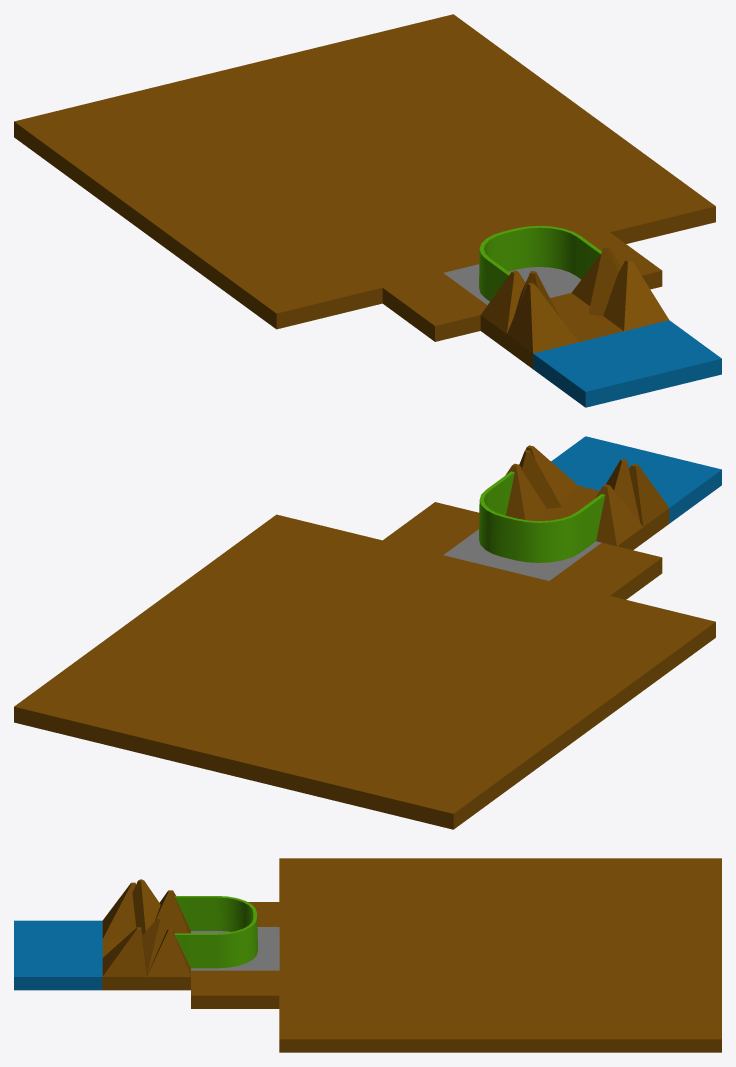
The model's file is Immersive Enviroment Proto1.fbx.
3 views of the same model, one above another, from view 1: azimuth 30°, elevation 25°; view 2: azimuth 150°, elevation 25°; view 3: azimuth 270°, elevation 25° (orthographic). The views are drawn at different scales.
Parts seen in each view (by area): view 1: Cube.176, Cube.328, Cube.342, Cube.346, Cube.348, Cube.352, Cube.334, Cube.336, Cube.330, Cube.340, Cube.354, Cube.163 (+30 smaller); view 2: Cube.354, Cube.353, Cube.163, Cube.176, Cube.328, Cube.330, Cube.336, Cube.352, Cube.342, Cube.348, Cube.334, Cube.340 (+32 smaller); view 3: Cube.176, Cube.163, Cube.327, Cube.329, Cube.333, Cube.335, Cube.339, Cube.341, Cube.345, Cube.347, Cube.351, Cube.353 (+32 smaller).
Part boxes in pixels (x1,y1,x2,y2): Cube.176: (533, 320, 721, 407); Cube.328: (250, 246, 472, 329); Cube.342: (119, 150, 341, 232); Cube.346: (92, 131, 315, 213); Cube.348: (66, 112, 289, 194); Cube.352: (40, 92, 262, 175); Cube.334: (197, 208, 420, 290); Cube.336: (171, 188, 394, 271); Cube.330: (224, 227, 446, 309); Cube.340: (145, 169, 367, 252); Cube.354: (14, 73, 236, 155); Cube.163: (479, 225, 601, 301); Cube.354: (256, 746, 479, 829); Cube.353: (14, 687, 236, 770); Cube.163: (479, 471, 605, 562); Cube.176: (551, 436, 721, 523); Cube.328: (493, 573, 715, 656); Cube.330: (467, 593, 689, 675); Cube.336: (414, 631, 637, 713); Cube.352: (283, 727, 505, 810); Cube.342: (362, 670, 584, 752); Cube.348: (309, 708, 532, 790); Cube.334: (441, 612, 663, 694); Cube.340: (388, 650, 610, 733); Cube.176: (14, 920, 102, 990); Cube.163: (174, 896, 257, 968); Cube.327: (279, 958, 323, 1052); Cube.329: (323, 958, 367, 1052); Cube.333: (368, 958, 412, 1052); Cube.335: (412, 958, 456, 1052); Cube.339: (456, 958, 500, 1052); Cube.341: (500, 958, 544, 1052); Cube.345: (545, 958, 589, 1052); Cube.347: (589, 958, 633, 1052); Cube.351: (633, 958, 677, 1052); Cube.353: (677, 958, 721, 1052).
Bounding box in the file's own units: 5800 × 942 × 9600.
